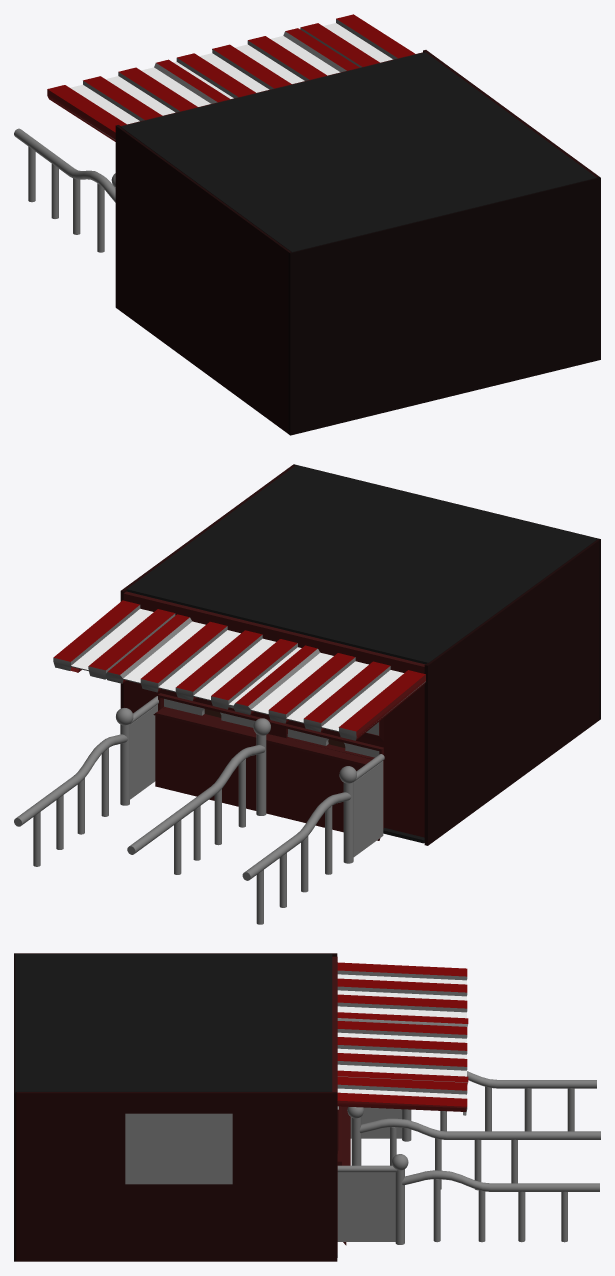
The model's file is Yeter_artik.obj.
3 views of the same model, one above another, from view 1: azimuth 30°, elevation 25°; view 2: azimuth 150°, elevation 25°; view 3: azimuth 270°, elevation 25° (orthographic). The views are drawn at different scales.
Visible parts, largest first — view 1: polySurface237, polySurface75 polySurface108, polySurface111 polySurface75, polySurface155, polySurface75 polySurface110, polySurface75 polySurface198; view 2: polySurface237, polySurface155, polySurface75 polySurface108, polySurface111 polySurface75, polySurface75 polySurface110, polySurface75 polySurface198, pCube46, pCube47; view 3: polySurface237, polySurface155, polySurface98, polySurface111 polySurface75, polySurface75 polySurface108, polySurface75 polySurface110, polySurface75 polySurface131.
Part boxes in pixels (x1,y1,x2,y2): polySurface237: [115, 50, 600, 435]; polySurface75 polySurface108: [173, 28, 359, 98]; polySurface111 polySurface75: [47, 59, 230, 132]; polySurface155: [14, 128, 115, 252]; polySurface75 polySurface110: [300, 14, 414, 67]; polySurface75 polySurface198: [47, 89, 115, 141]; polySurface237: [120, 464, 600, 845]; polySurface155: [14, 696, 384, 924]; polySurface75 polySurface108: [105, 614, 301, 709]; polySurface111 polySurface75: [233, 645, 425, 740]; polySurface75 polySurface110: [53, 600, 175, 679]; polySurface75 polySurface198: [356, 674, 425, 740]; pCube46: [287, 729, 379, 757]; pCube47: [164, 699, 255, 727]; polySurface237: [14, 953, 350, 1261]; polySurface155: [337, 1071, 600, 1244]; polySurface98: [125, 1113, 232, 1184]; polySurface111 polySurface75: [337, 962, 468, 1026]; polySurface75 polySurface108: [337, 1021, 468, 1084]; polySurface75 polySurface110: [337, 1076, 467, 1115]; polySurface75 polySurface131: [337, 1100, 466, 1111].
Bounding box in the file's own units: 215 × 122 × 380.
